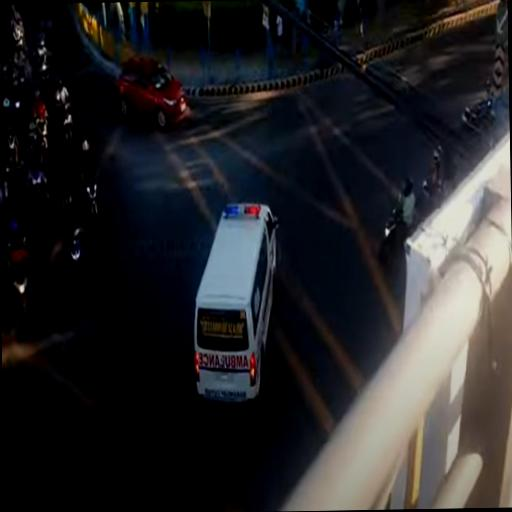Police car: (192, 202, 286, 407)
